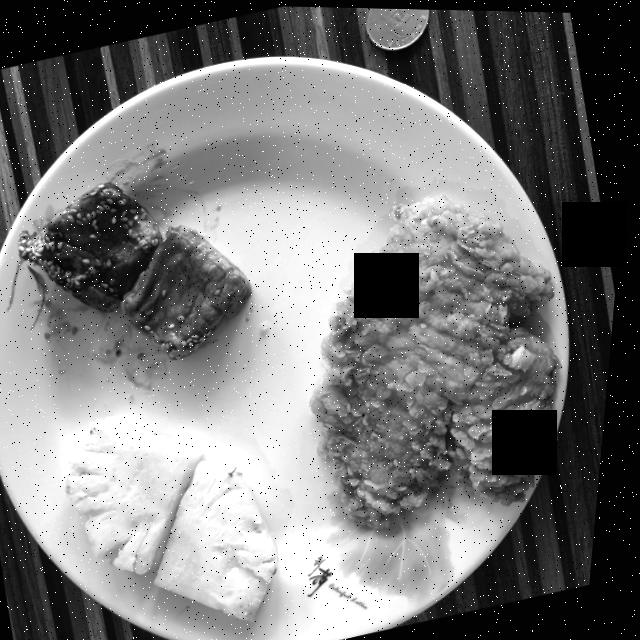coin: (365, 6, 429, 49)
creamy tofu: (23, 181, 256, 358)
fried chicken cutlet: (317, 191, 567, 526)
pineapple: (74, 415, 288, 619)
